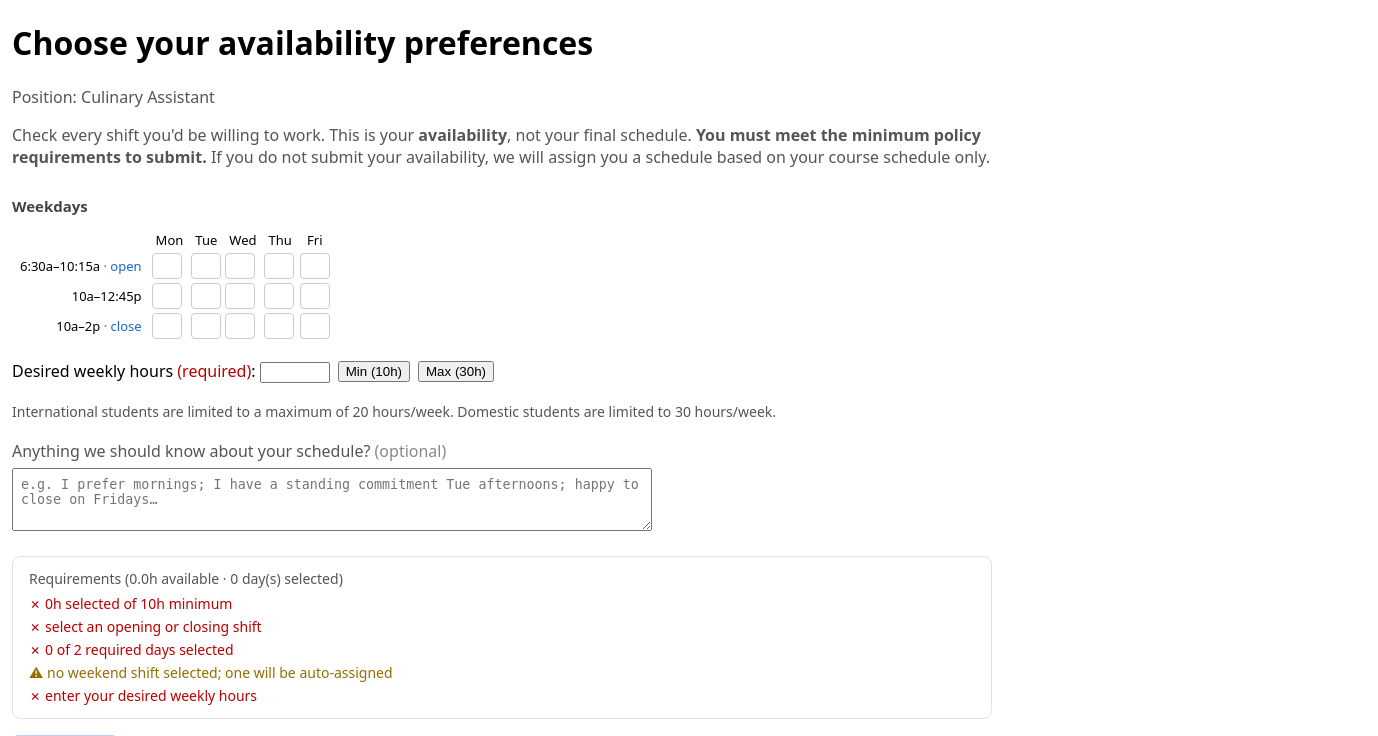
Scenario: AvailabilityForm › marks a shorter shift as covered when a longer overlapping shift is selected
Click the button named "10a–2p Mon" at (167, 326), box [152,313,182,339]
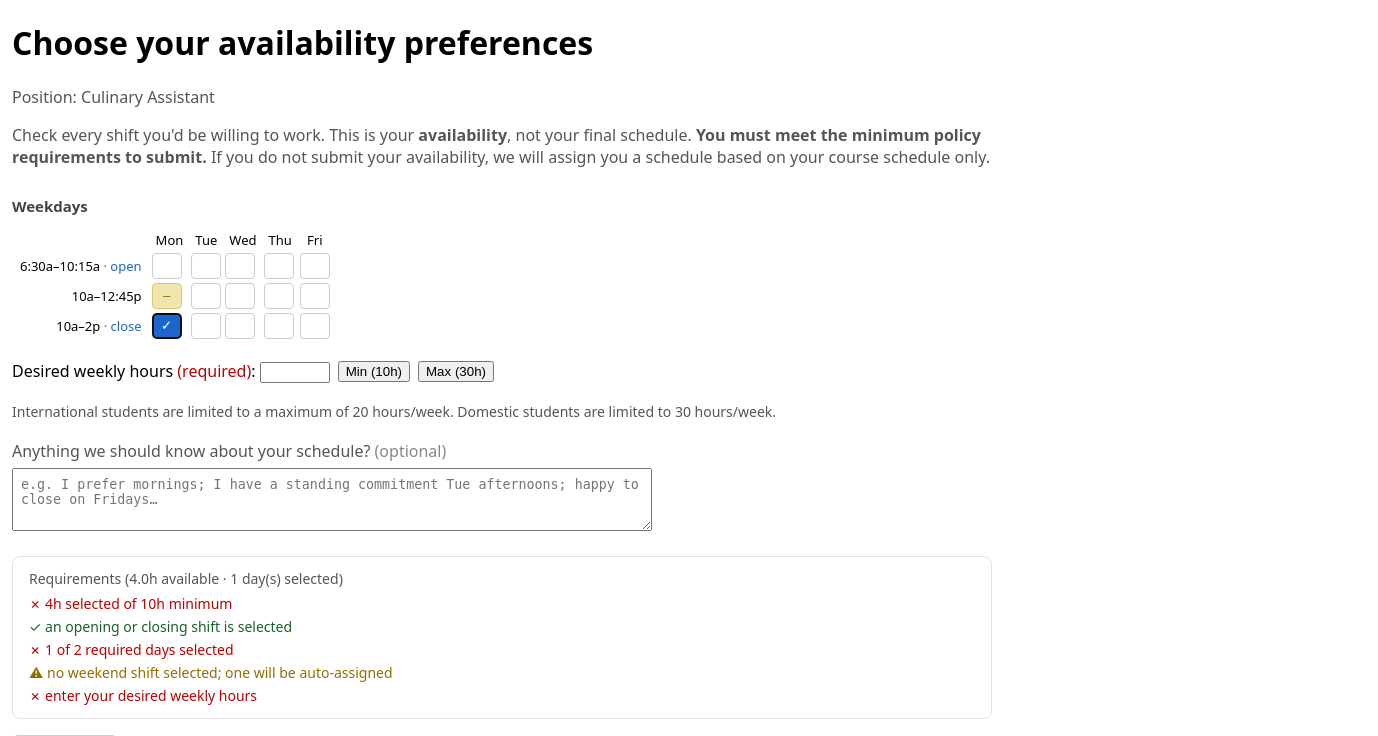
Check: the button named "10a–12:45p Mon" reads "–", box [152,283,182,309]
